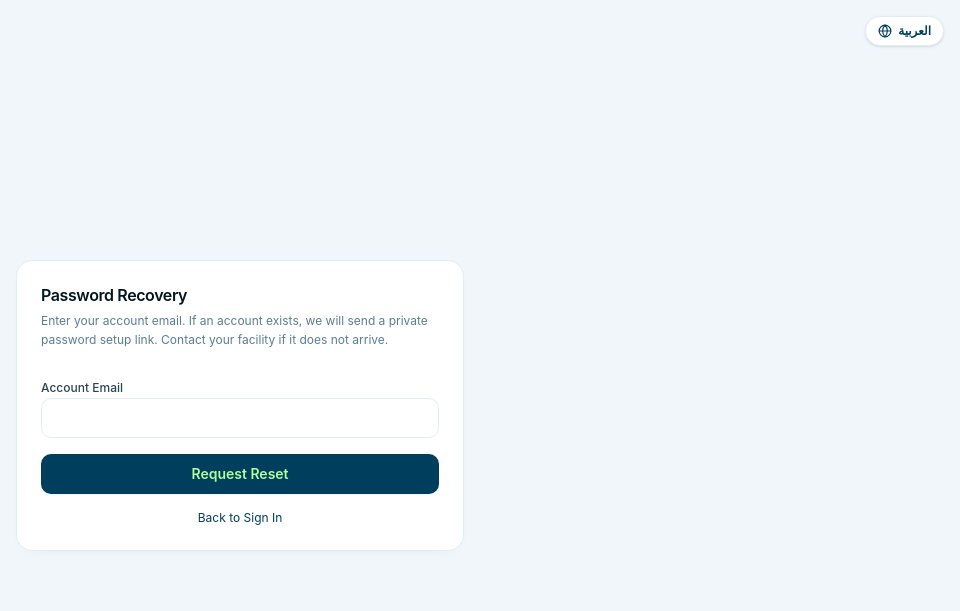
Test case: Private account setup › shows a generic recovery acknowledgement without exposing a token
In the field: (240, 418) [41,398,439,438], type "patient@example.com"
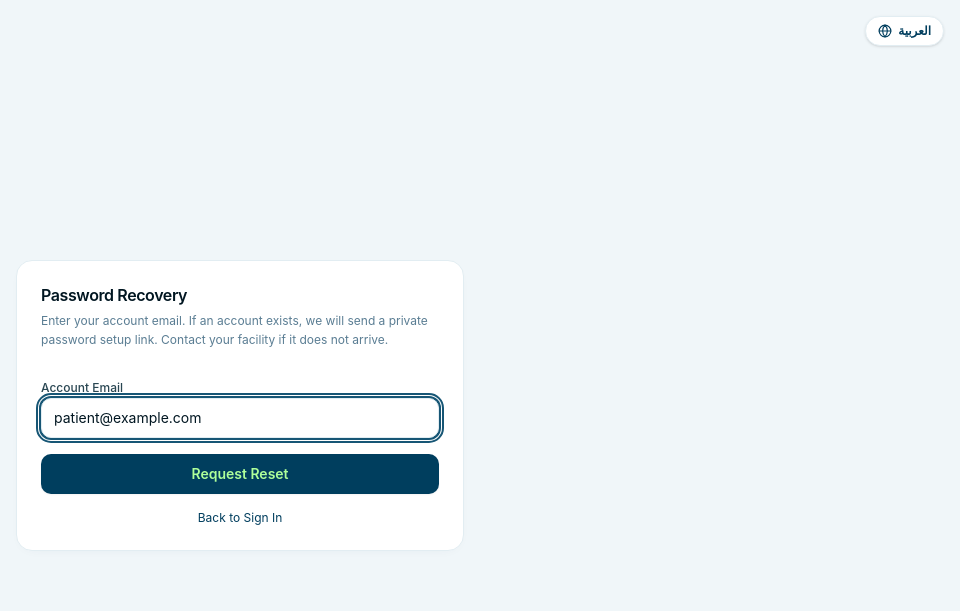
Click the button "Request Reset": click(240, 474) [41,454,439,494]
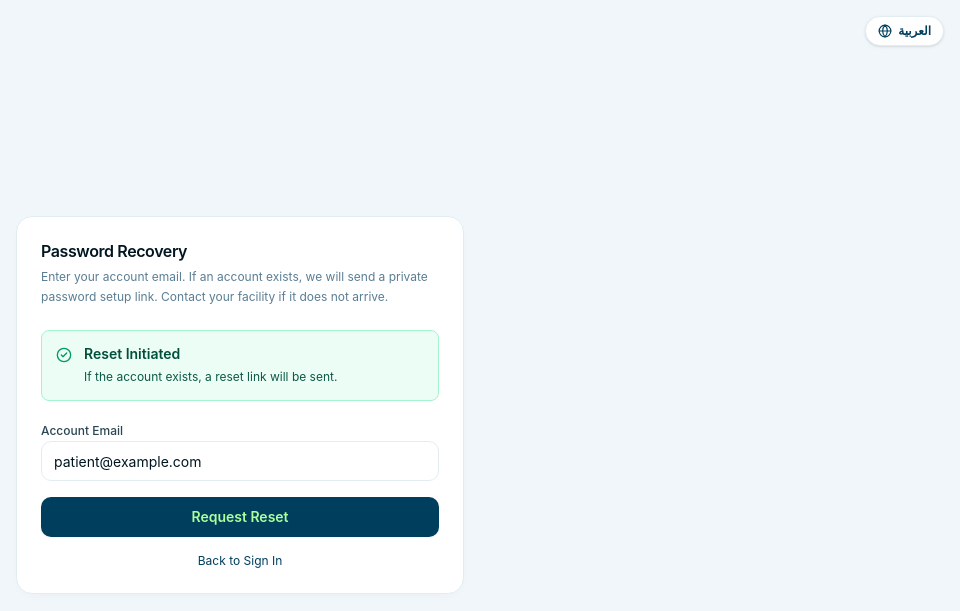
Expected: the text "If the account exists, a reset link will be sent." is shown, [84,368,337,384]
